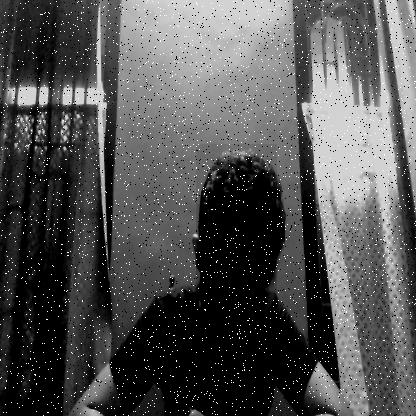Distracted: (196, 144, 277, 363)
